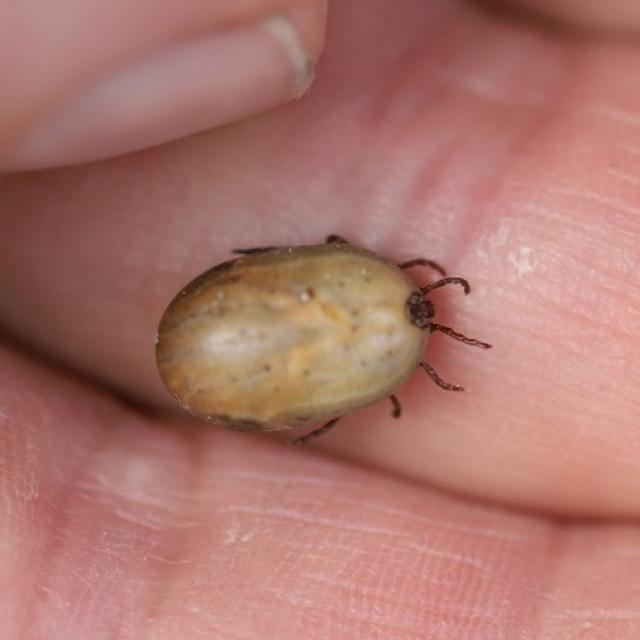Dermacentor Reticulatus-F-Fed: (153, 234, 491, 436)
